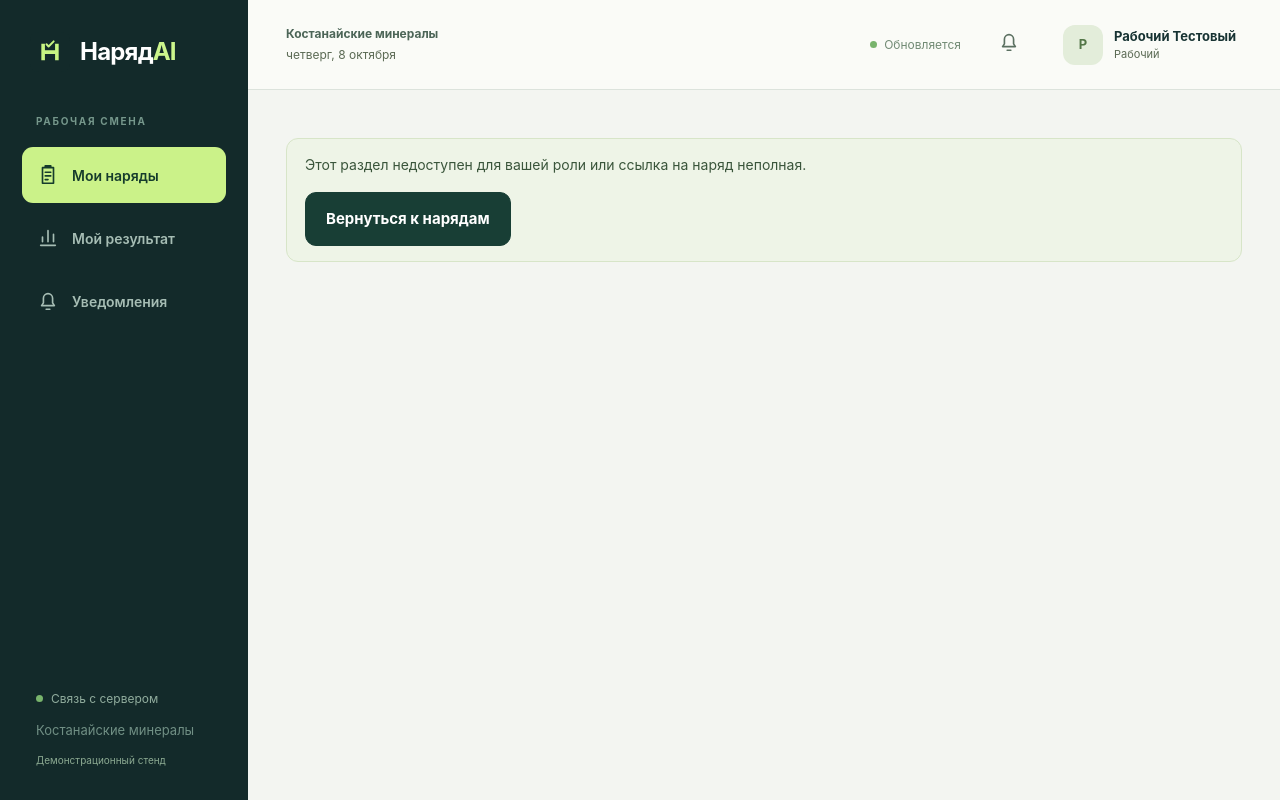
Оболочка рабочего приложения › даёт рабочему путь назад при чужой ссылке на выдачу вместо пустого экрана
This screenshot has width=1280, height=800.
Click the button "Вернуться к нарядам" at (408, 219), box 305,192 -> 511,246
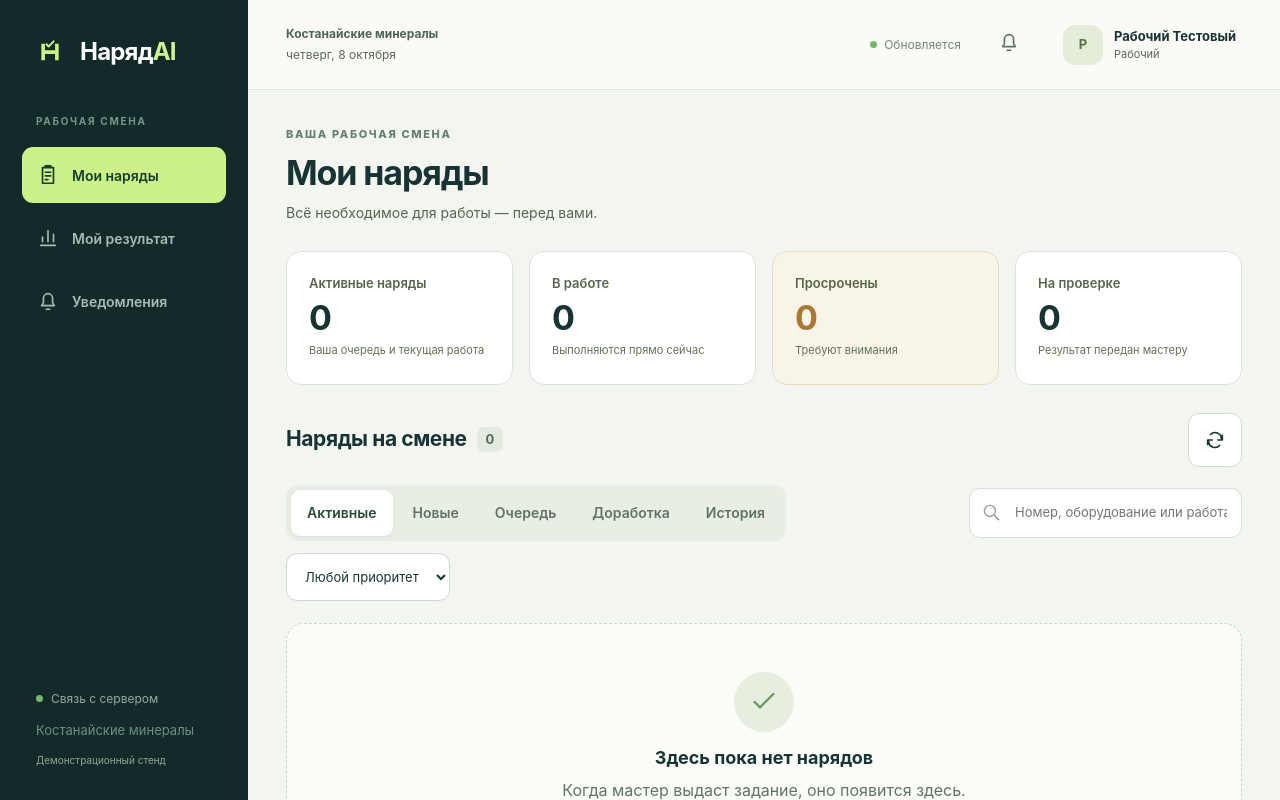
Expected: the heading "Мои наряды" is shown, 286,152 -> 489,192
